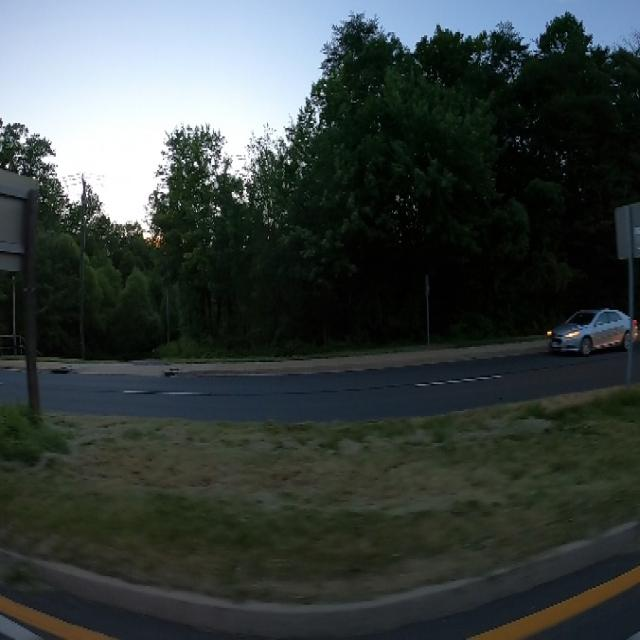cars: (540, 293, 640, 377)
